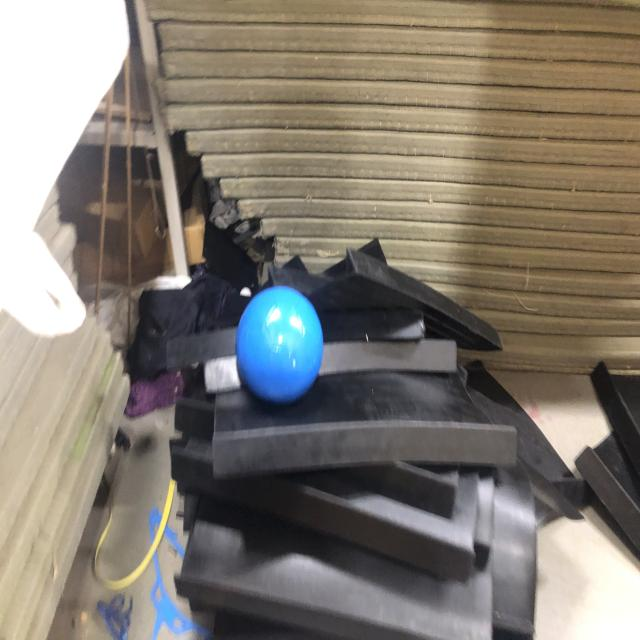blue_ball: (238, 286, 322, 400)
